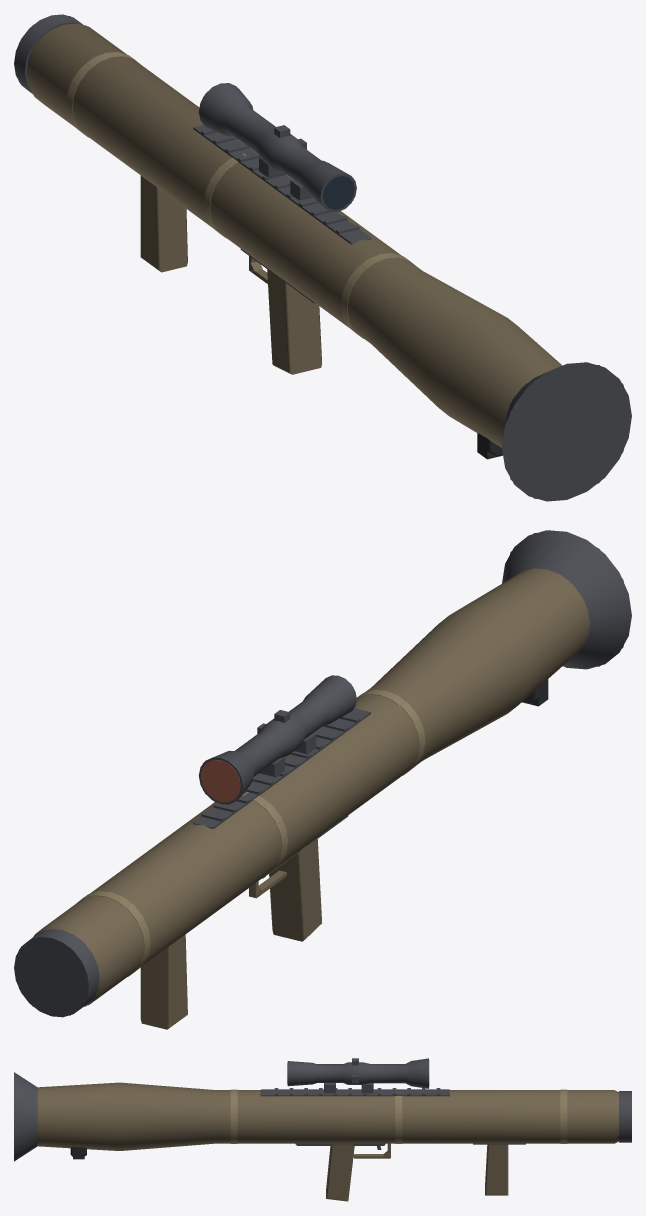
The model's file is la_recoilless.glb.
3 renders of one model, top to bottom at view 1: azimuth 30°, elevation 25°; view 2: azimuth 150°, elevation 25°; view 3: azimuth 270°, elevation 25°, orthographic. The views are drawn at different scales.
Visible parts, largest first — view 1: L0, L1; view 2: L0, L1; view 3: L0, L1.
Part boxes in pixels (left/top/right/bottom): L0: left=14, top=14, right=631, bottom=501; L1: left=18, top=16, right=631, bottom=499; L0: left=14, top=530, right=631, bottom=1029; L1: left=14, top=533, right=623, bottom=1015; L0: left=14, top=1058, right=631, bottom=1201; L1: left=14, top=1058, right=631, bottom=1161.
Size of the model in its own units: 0.153 by 0.258 by 1.05.
